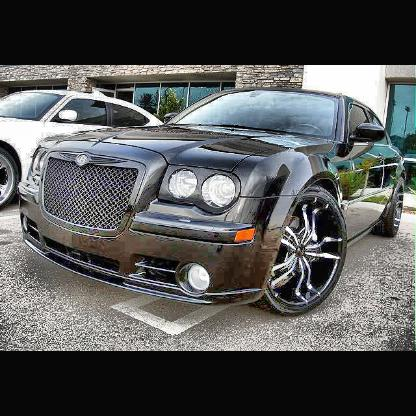Chrysler 300 SRT-8 2010: (16, 86, 407, 320)
